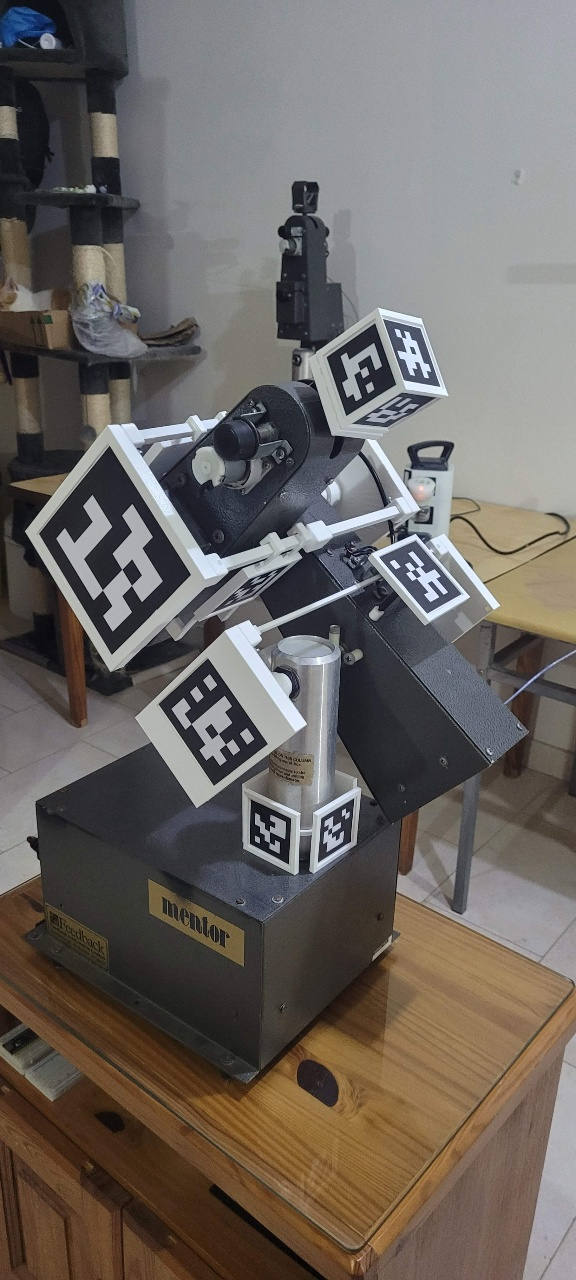Robot: (24, 307, 533, 878)
